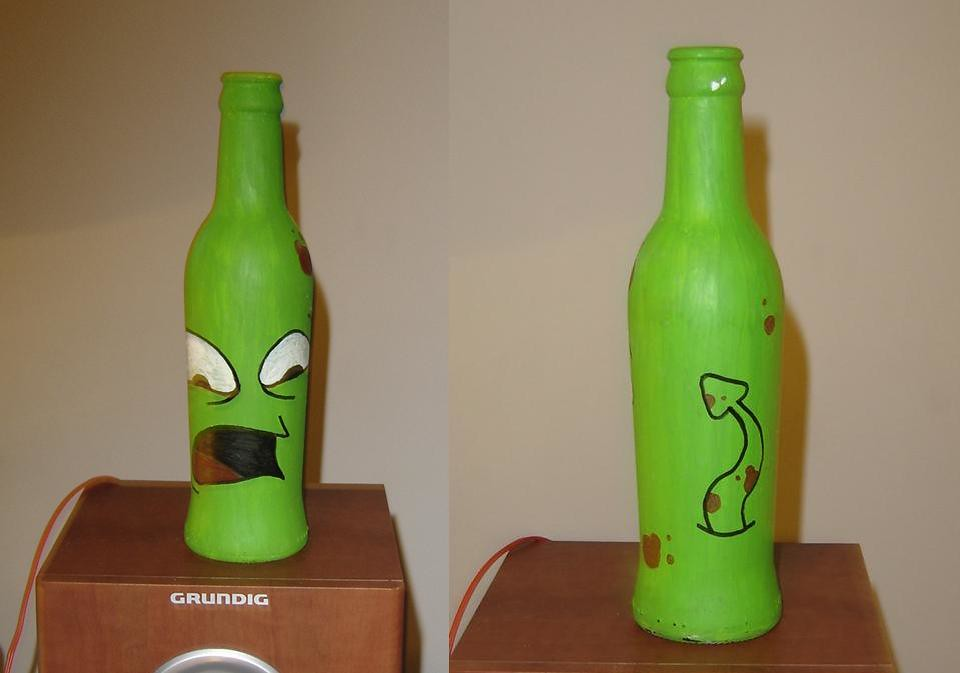bottle: (623, 42, 785, 648), (177, 69, 319, 564)
